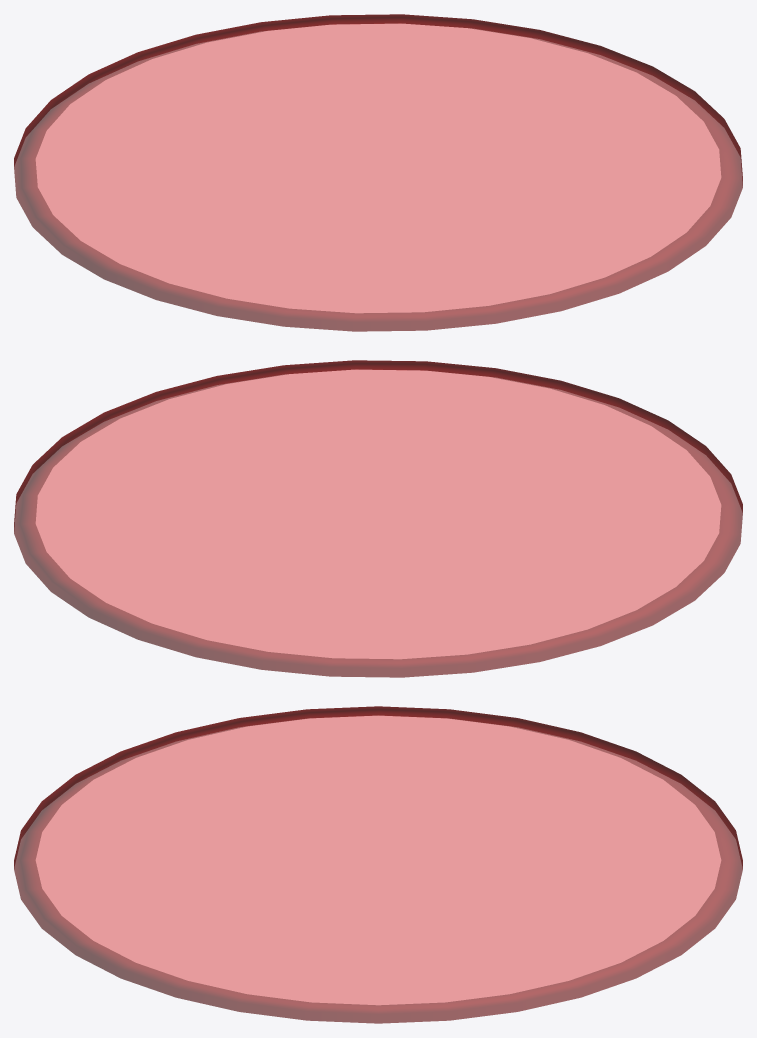
Rendered from DangerCircle.fbx.
3 views of the same model, one above another, from view 1: azimuth 30°, elevation 25°; view 2: azimuth 150°, elevation 25°; view 3: azimuth 270°, elevation 25° (orthographic).
Parts seen in each view (by area): view 1: DangerCircle; view 2: DangerCircle; view 3: DangerCircle.
Part boxes in pixels (bbox=[...]): DangerCircle: bbox=[14, 14, 742, 331]; DangerCircle: bbox=[14, 360, 742, 677]; DangerCircle: bbox=[14, 706, 742, 1023].
Size of the model in its own units: 40.85 by 0.5717 by 40.85.
